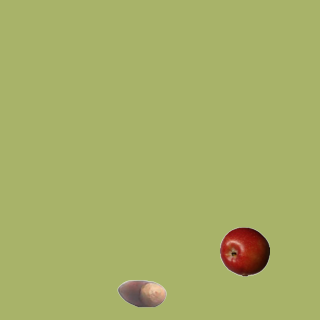Apple Braeburn: (219, 226, 269, 276)
Hazelnut: (116, 268, 166, 318)
